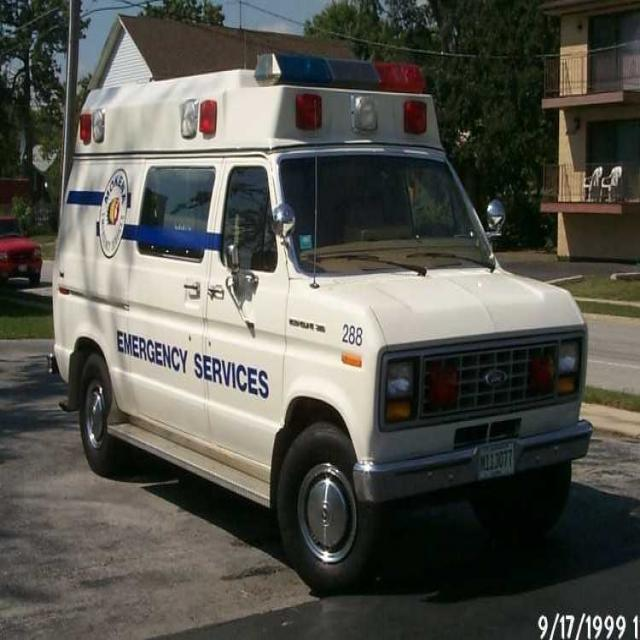emergency-vehicle: (58, 77, 593, 531)
